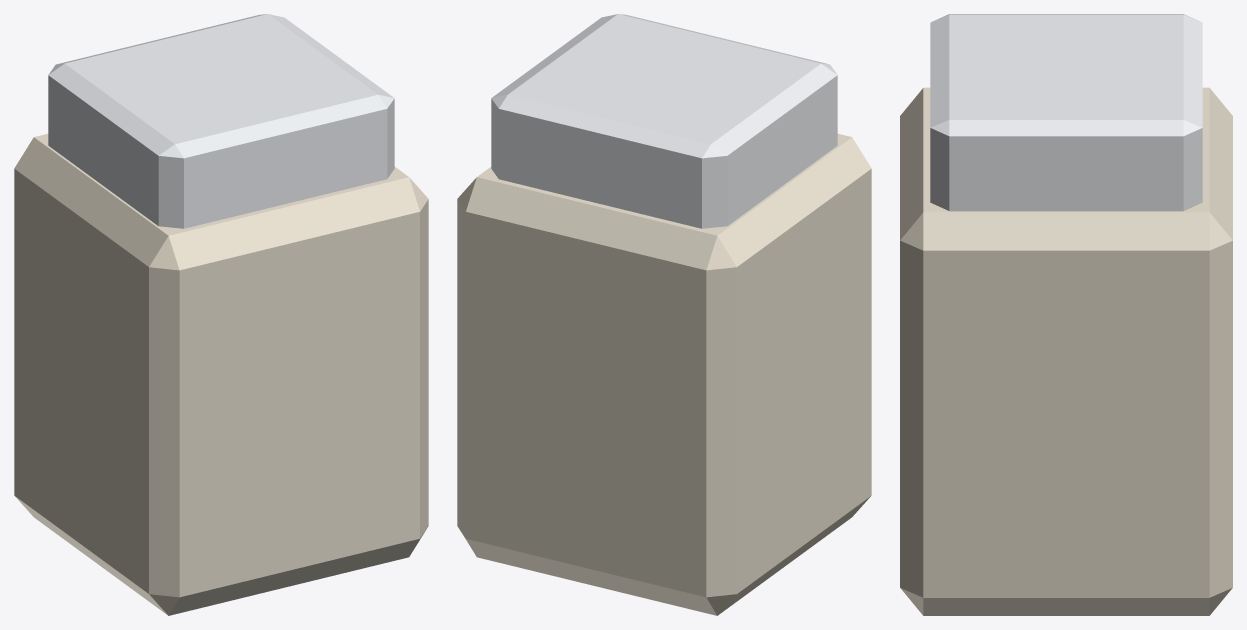
File: b17_portable_folding_camp_chair.glb
3 views of the same model, side by side, from view 1: azimuth 30°, elevation 25°; view 2: azimuth 150°, elevation 25°; view 3: azimuth 270°, elevation 25° (orthographic). The views are drawn at different scales.
Parts seen in each view (by area): view 1: b17_portable_folding_camp_chair; view 2: b17_portable_folding_camp_chair; view 3: b17_portable_folding_camp_chair.
Boxes of the visible parts, <box> form: b17_portable_folding_camp_chair: <box>14,14,428,615</box>; b17_portable_folding_camp_chair: <box>457,14,871,615</box>; b17_portable_folding_camp_chair: <box>900,14,1232,615</box>.
Bounding box in the file's own units: 0.575 × 0.9 × 0.558.
